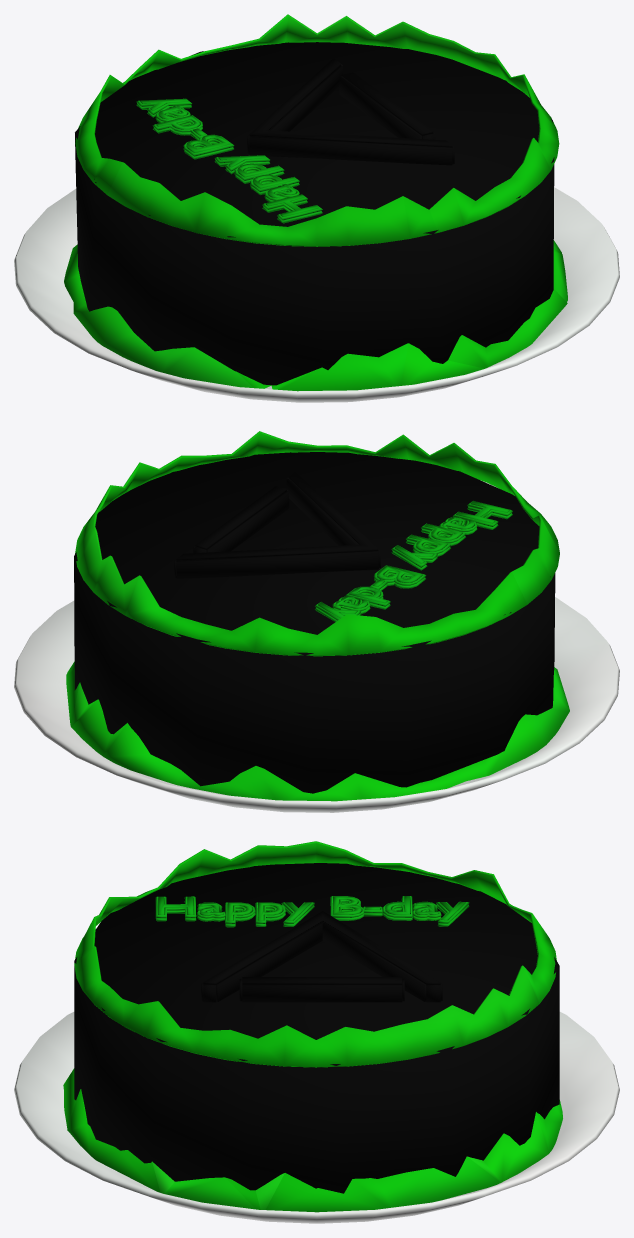
The model's file is evil-cake2.dae.
3 views of the same model, one above another, from view 1: azimuth 30°, elevation 25°; view 2: azimuth 150°, elevation 25°; view 3: azimuth 270°, elevation 25° (orthographic).
Visible parts, largest first — view 1: Circle; view 2: Circle; view 3: Circle.
Boxes of the visible parts, x1=… form: Circle: x1=14, y1=14, x2=619, y2=402; Circle: x1=14, y1=431, x2=619, y2=812; Circle: x1=14, y1=841, x2=619, y2=1223.
Bounding box in the file's own units: 0.1514 × 0.1514 × 0.0518.
1 material, 1 textured.
